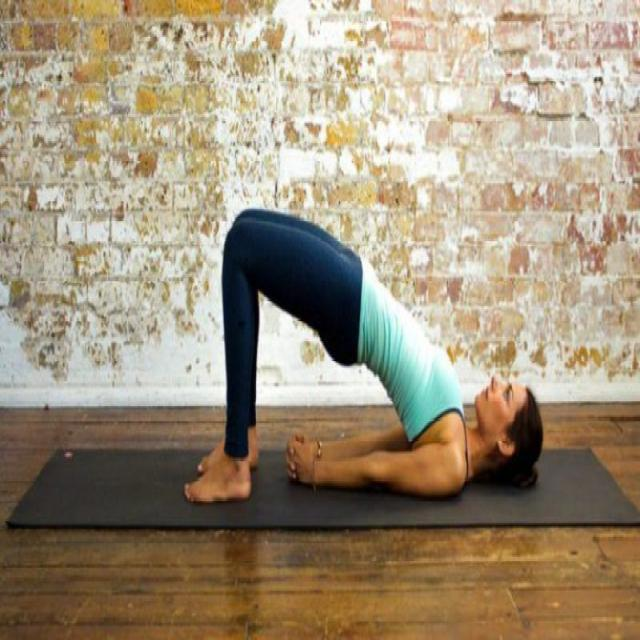yoga-pose bridge: (190, 175, 545, 524)
